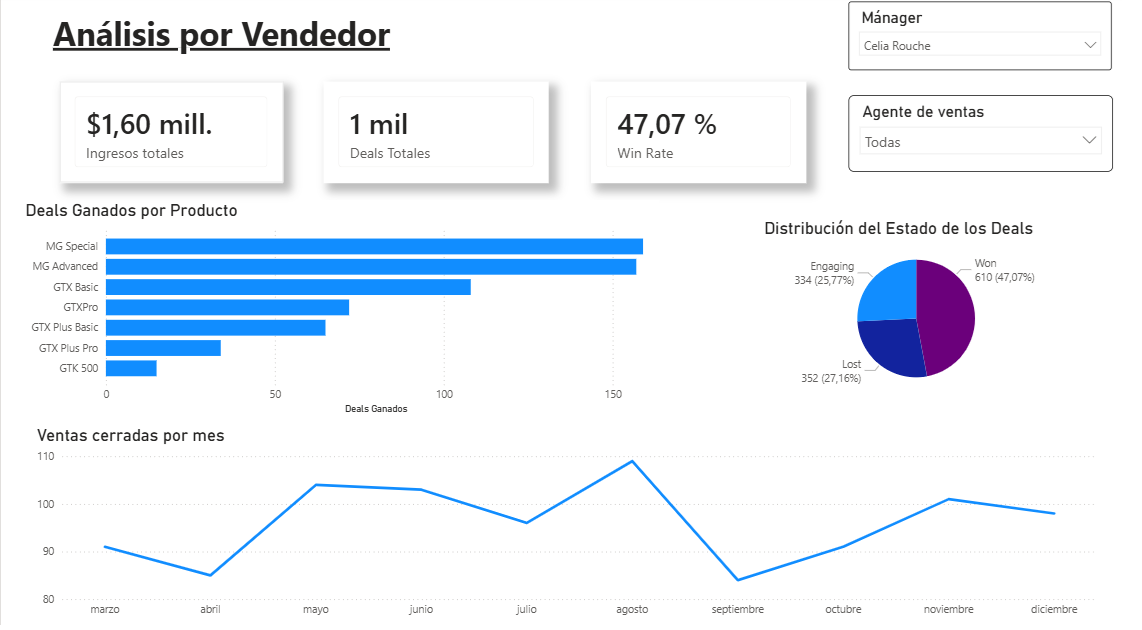

Layout of this report page (visuals, bound fields, positions):
{"tool":"powerbi","page":{"name":"Página 2","canvas":[1280,720],"ordinal":1},"visuals":[{"type":"slicer","fields":{"Values":["sales_pipeline.sales_agent"]},"box":[965.7,115.7,301.4,87.1],"z":0},{"type":"cardVisual","fields":{"Data":["accounts.Deals_Totales"]},"box":[367.1,100,257.1,115.7],"z":1000},{"type":"cardVisual","fields":{"Data":["accounts.Porcentaje_Ganados"]},"box":[672.9,100,245.7,115.7],"z":2000},{"type":"textbox","box":[54.3,14.3,897.1,72.9],"z":3000},{"type":"barChart","title":"Deals Ganados por Producto","fields":{"Category":["sales_pipeline.product"],"Y":["accounts.Deals_Ganados"]},"box":[22.8,235.2,728.4,249.4],"z":4000},{"type":"pieChart","title":"Distribución del Estado de los Deals","fields":{"Category":["sales_pipeline.deal_stage"],"Y":["CountNonNull(sales_pipeline.deal_stage)"]},"box":[865.7,257.1,357.1,205.7],"z":5000},{"type":"cardVisual","fields":{"Data":["Sum(sales_pipeline.close_value)"]},"box":[67.1,100,254.3,115.7],"z":6000},{"type":"lineChart","title":"Ventas cerradas por mes","fields":{"Category":["sales_pipeline.close_date.Variación.Jerarquía de fechas.Mes","sales_pipeline.close_date.Variación.Jerarquía de fechas.Día"],"Y":["CountNonNull(sales_pipeline.close_value)"]},"box":[35.7,491.4,1218.6,228.6],"z":7000},{"type":"slicer","fields":{"Values":["sales_teams.manager"]},"box":[965.7,8.6,300,78.6],"z":8000}]}

Visuals, with their boxes in screenshot pixels (x1, y1, x2, y2), scaled from the page's 1280x720 canvas onto the 1142x630 screenshot:
slicer - sales_pipeline.sales_agent: [left=862, top=101, right=1130, bottom=177]
cardVisual - accounts.Deals_Totales: [left=328, top=88, right=557, bottom=189]
cardVisual - accounts.Porcentaje_Ganados: [left=600, top=88, right=820, bottom=189]
textbox: [left=48, top=13, right=849, bottom=76]
"Deals Ganados por Producto" barChart: [left=20, top=206, right=670, bottom=424]
"Distribución del Estado de los Deals" pieChart: [left=772, top=225, right=1091, bottom=405]
cardVisual - Sum(sales_pipeline.close_value): [left=60, top=88, right=287, bottom=189]
"Ventas cerradas por mes" lineChart: [left=32, top=430, right=1119, bottom=629]
slicer - sales_teams.manager: [left=862, top=8, right=1129, bottom=76]
